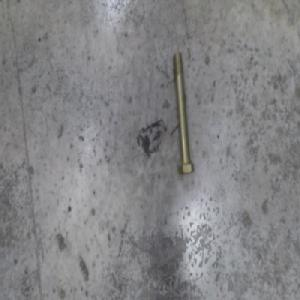Bolt: (170, 55, 194, 177)
